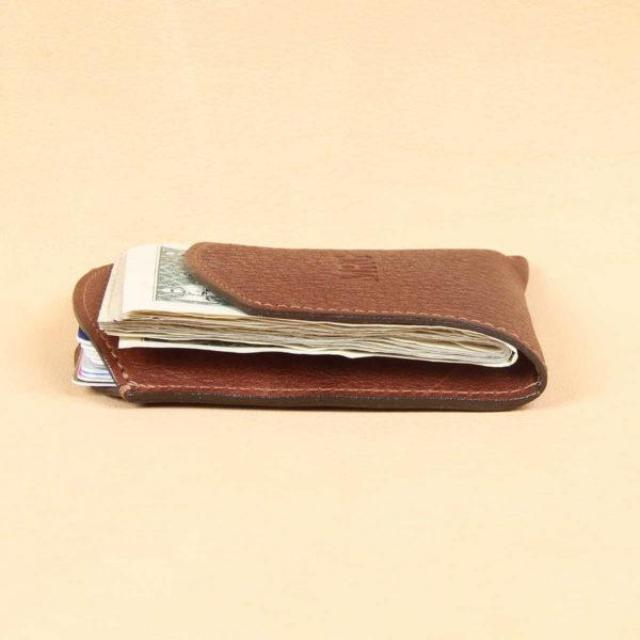wallet: (62, 231, 558, 443)
